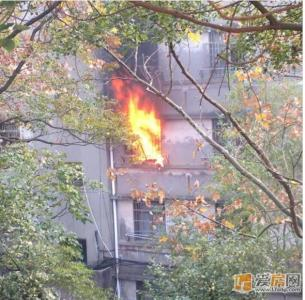fire: (115, 66, 166, 167)
